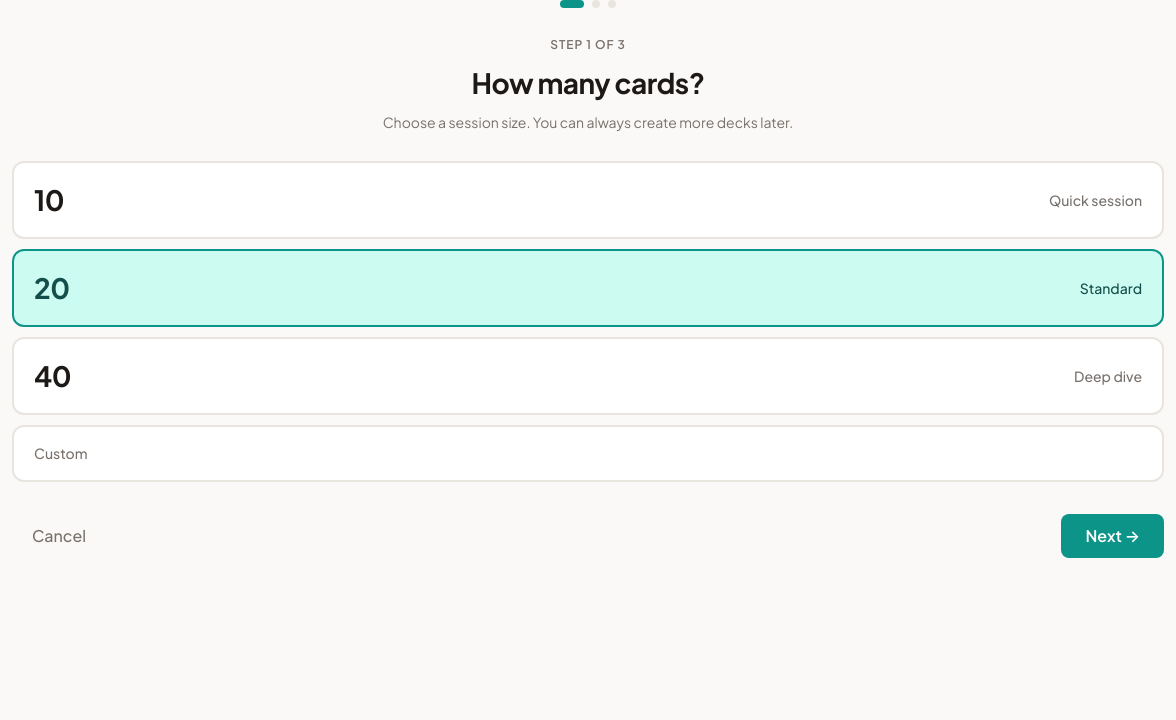
it: DeckConfigPanel — step 1, size › reveals a number input when Custom is chosen
The width and height of the screenshot is (1176, 720).
Click the button "Custom" at (61, 453), box [12,425,1164,482]
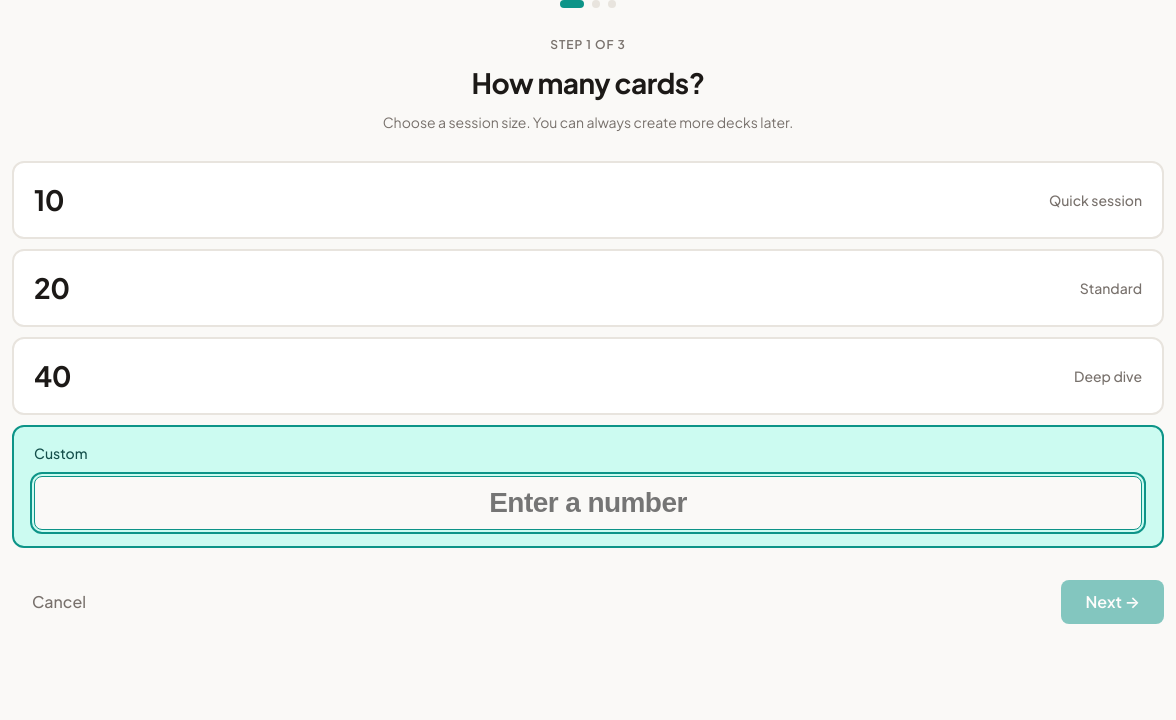
Now the number field named "Custom deck size" is shown, box [34,476,1142,530]
